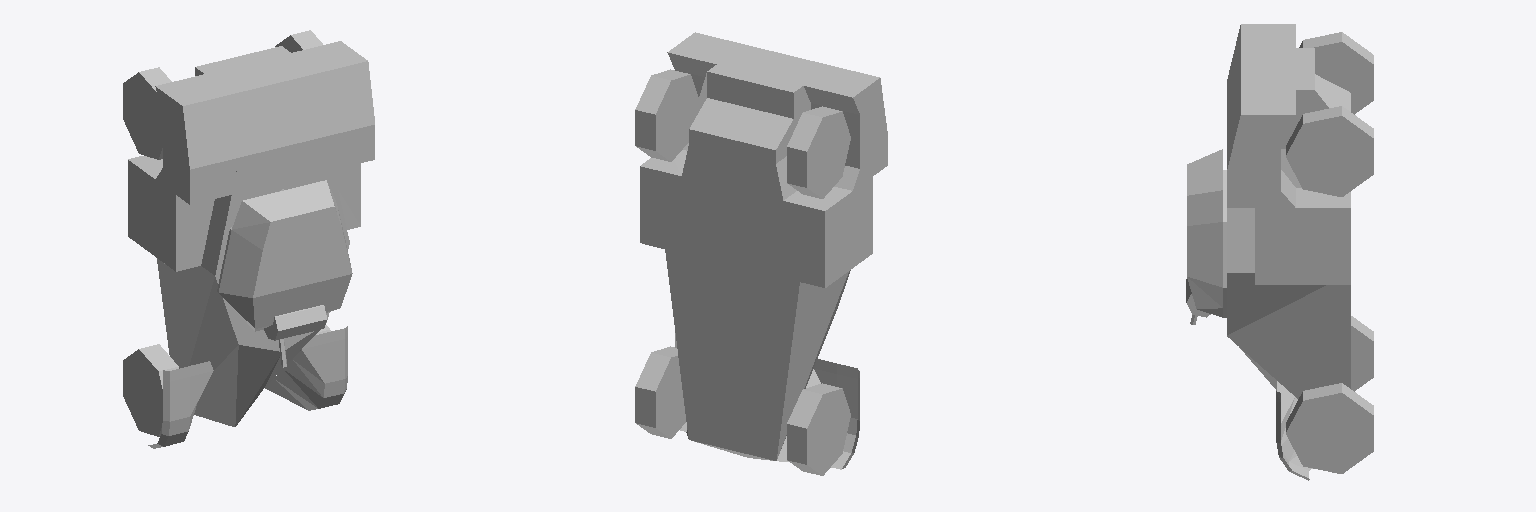
The model's file is AML-60-trial.obj.
The picture shows the model from 3 angles: view 1: azimuth 30°, elevation 25°; view 2: azimuth 150°, elevation 25°; view 3: azimuth 270°, elevation 25°; orthographic projection.
Parts seen in each view (by area): view 1: body_Cube, turret_Cube.013, wheel-F-R_Circle.003, wheel_back_Circle.002, mantlet_left_Circle.008, wheel_back.001_Circle.011; view 2: body_Cube, wheel_back_Circle.002, wheel-F-R_Circle.003, wheel_back.001_Circle.011, wheel-F-L.001_Circle.010; view 3: body_Cube, wheel_back.001_Circle.011, wheel-F-L.001_Circle.010, turret_Cube.013, wheel_back_Circle.002, wheel-F-R_Circle.003.
Boxes of the visible parts, x1=… form: body_Cube: x1=128, y1=41, x2=374, y2=448; turret_Cube.013: x1=217, y1=180, x2=352, y2=335; wheel-F-R_Circle.003: x1=123, y1=344, x2=178, y2=436; wheel_back_Circle.002: x1=123, y1=67, x2=171, y2=159; mantlet_left_Circle.008: x1=264, y1=305, x2=326, y2=367; wheel_back.001_Circle.011: x1=275, y1=30, x2=322, y2=52; body_Cube: x1=640, y1=32, x2=887, y2=469; wheel_back_Circle.002: x1=787, y1=106, x2=850, y2=198; wheel-F-R_Circle.003: x1=787, y1=383, x2=850, y2=475; wheel_back.001_Circle.011: x1=635, y1=69, x2=698, y2=161; wheel-F-L.001_Circle.010: x1=635, y1=346, x2=685, y2=438; body_Cube: x1=1227, y1=24, x2=1350, y2=480; wheel_back.001_Circle.011: x1=1286, y1=106, x2=1373, y2=196; wheel-F-L.001_Circle.010: x1=1286, y1=383, x2=1373, y2=473; turret_Cube.013: x1=1186, y1=149, x2=1226, y2=317; wheel_back_Circle.002: x1=1299, y1=32, x2=1373, y2=114; wheel-F-R_Circle.003: x1=1351, y1=316, x2=1373, y2=391.
Size of the model in its own units: 1.9 by 3.66 by 1.66.